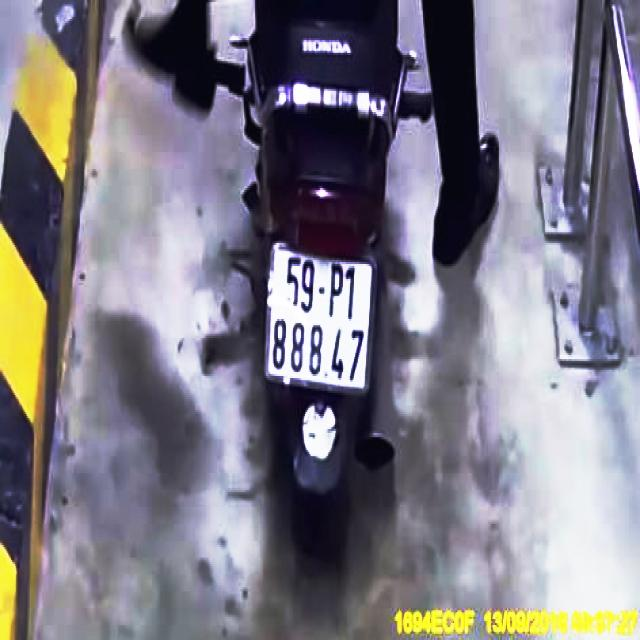license_plate: (268, 248, 376, 391)
